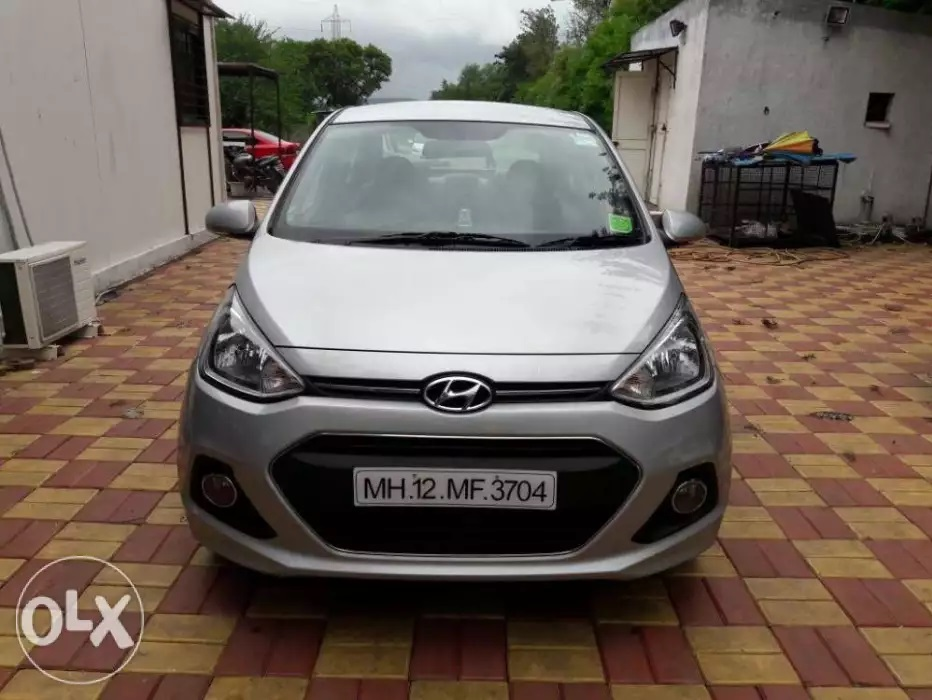licenseplate: (355, 465, 564, 513)
